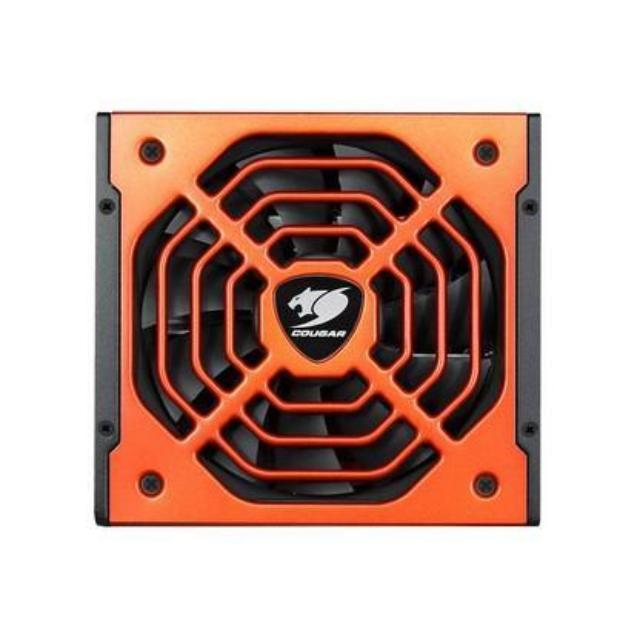PSU: (80, 97, 552, 548)
